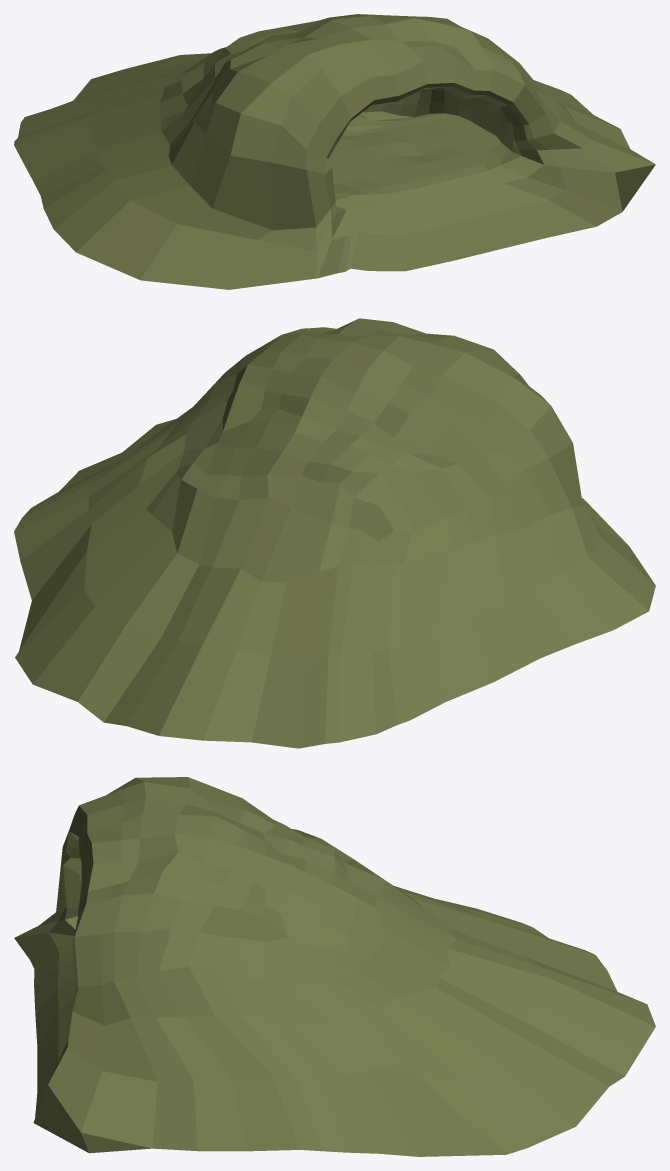
File: Cave_01.fbx
3 views of the same model, one above another, from view 1: azimuth 30°, elevation 25°; view 2: azimuth 150°, elevation 25°; view 3: azimuth 270°, elevation 25° (orthographic). The views are drawn at different scales.
Parts seen in each view (by area): view 1: Cave_01a; view 2: Cave_01a; view 3: Cave_01a.
Boxes of the visible parts, x1,y1,x2,y2 form: Cave_01a: (14,14,655,289); Cave_01a: (14,318,655,748); Cave_01a: (14,777,655,1156).
Size of the model in its own units: 3584 by 1405 by 3396.
